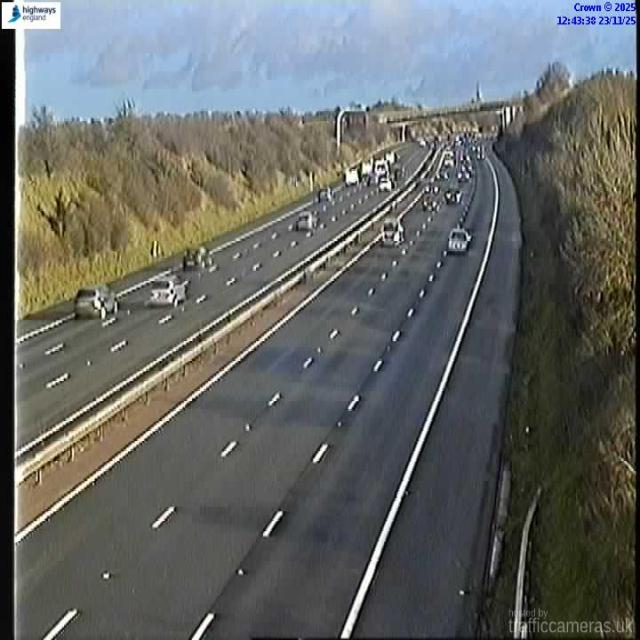foliage: (499, 70, 639, 627), (18, 109, 395, 313)
